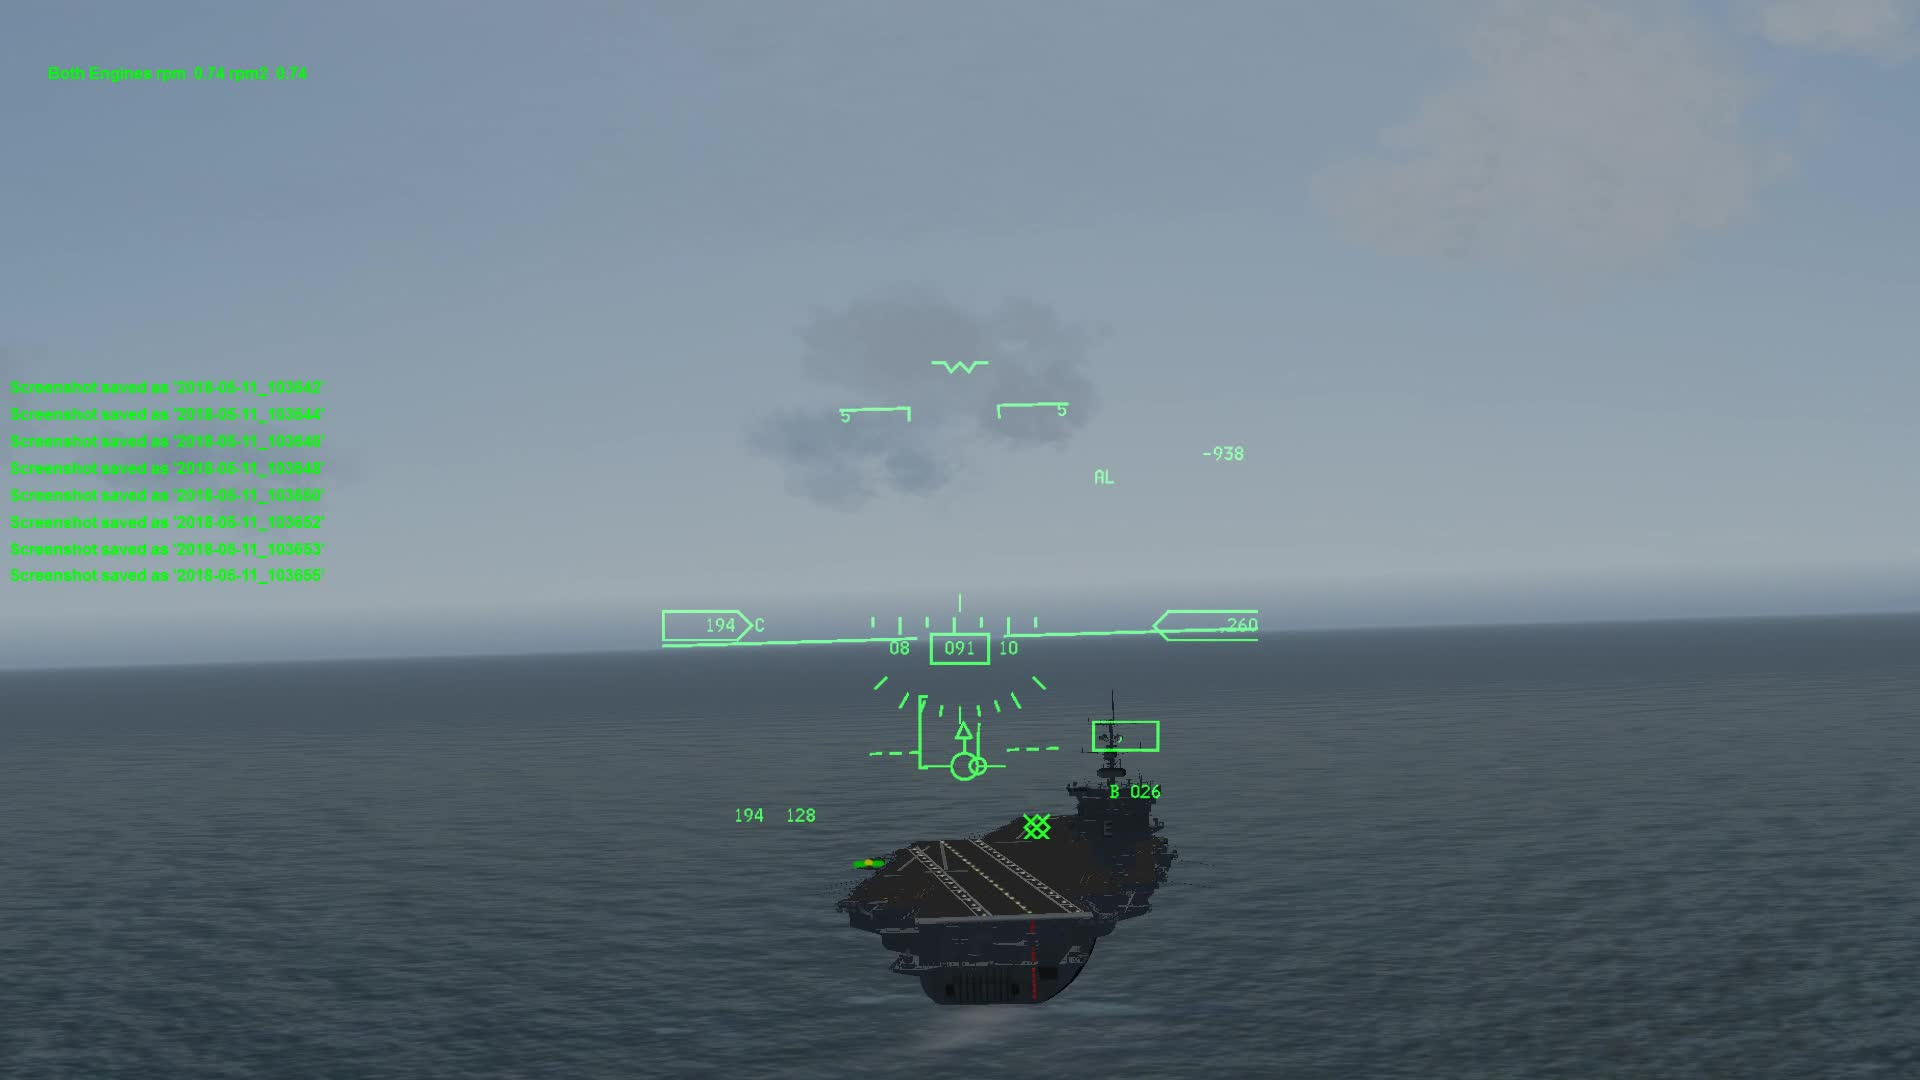speed vector: (923, 742, 1005, 785)
